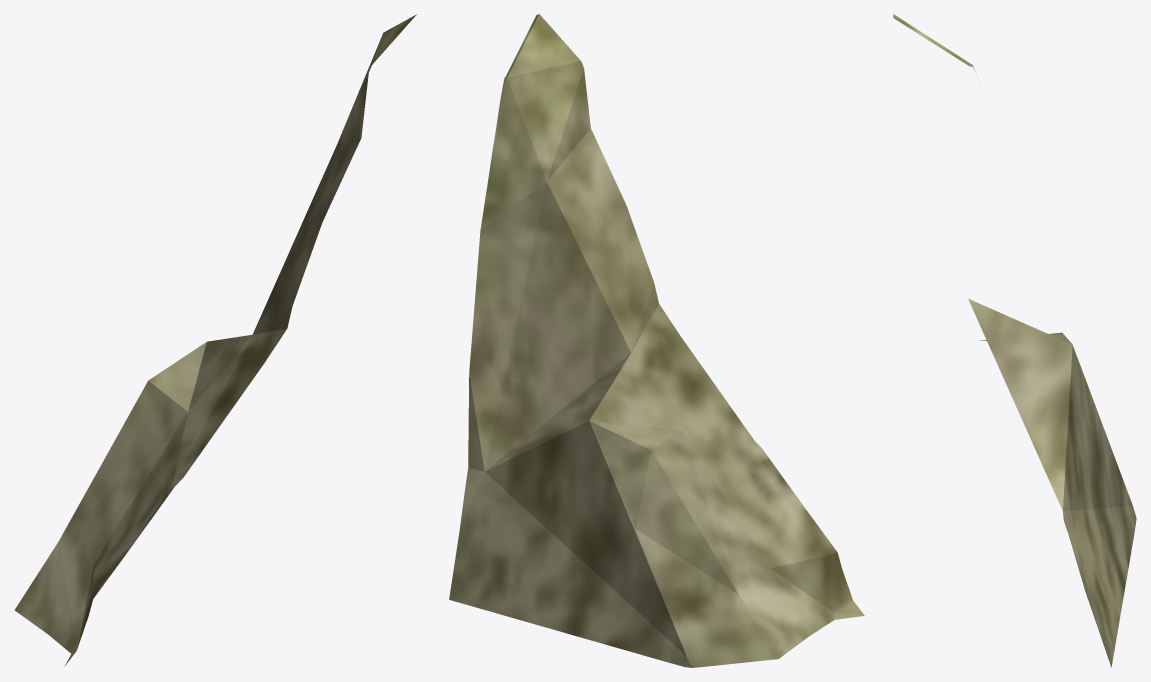
The picture shows the model from 3 angles, left to right: view 1: azimuth 30°, elevation 25°; view 2: azimuth 150°, elevation 25°; view 3: azimuth 270°, elevation 25°; orthographic projection. The views are drawn at different scales.
Bounding box in the file's own units: 0.8524 × 1.3 × 0.4381.
1 material, 1 textured.
